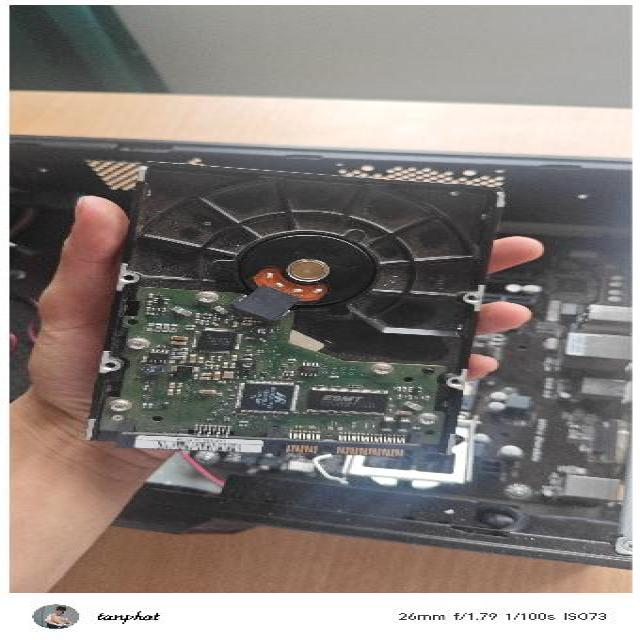DISK: (84, 155, 507, 459)
